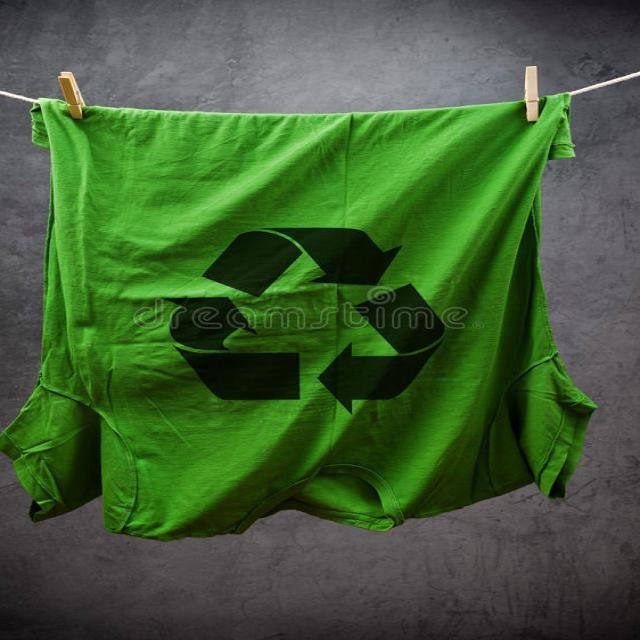clothes: (0, 118, 581, 528)
